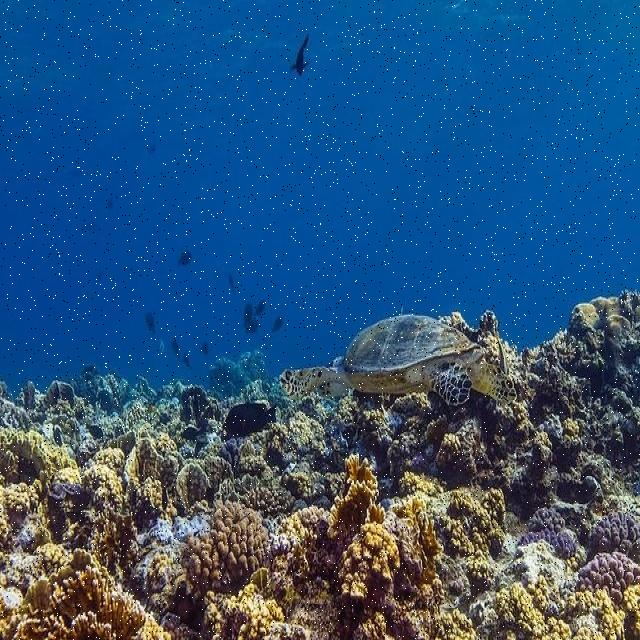fish: (280, 315, 516, 405), (222, 403, 277, 437), (288, 30, 310, 75), (242, 299, 266, 335), (181, 425, 206, 444), (84, 423, 103, 439)
reefs: (0, 287, 639, 639)
